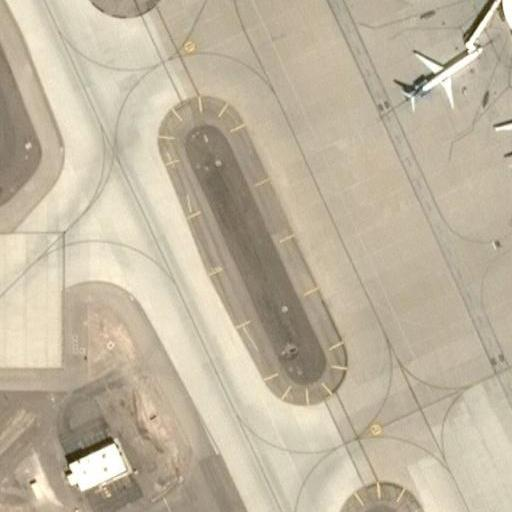Aircraft: (393, 39, 484, 111), (490, 78, 512, 174)
